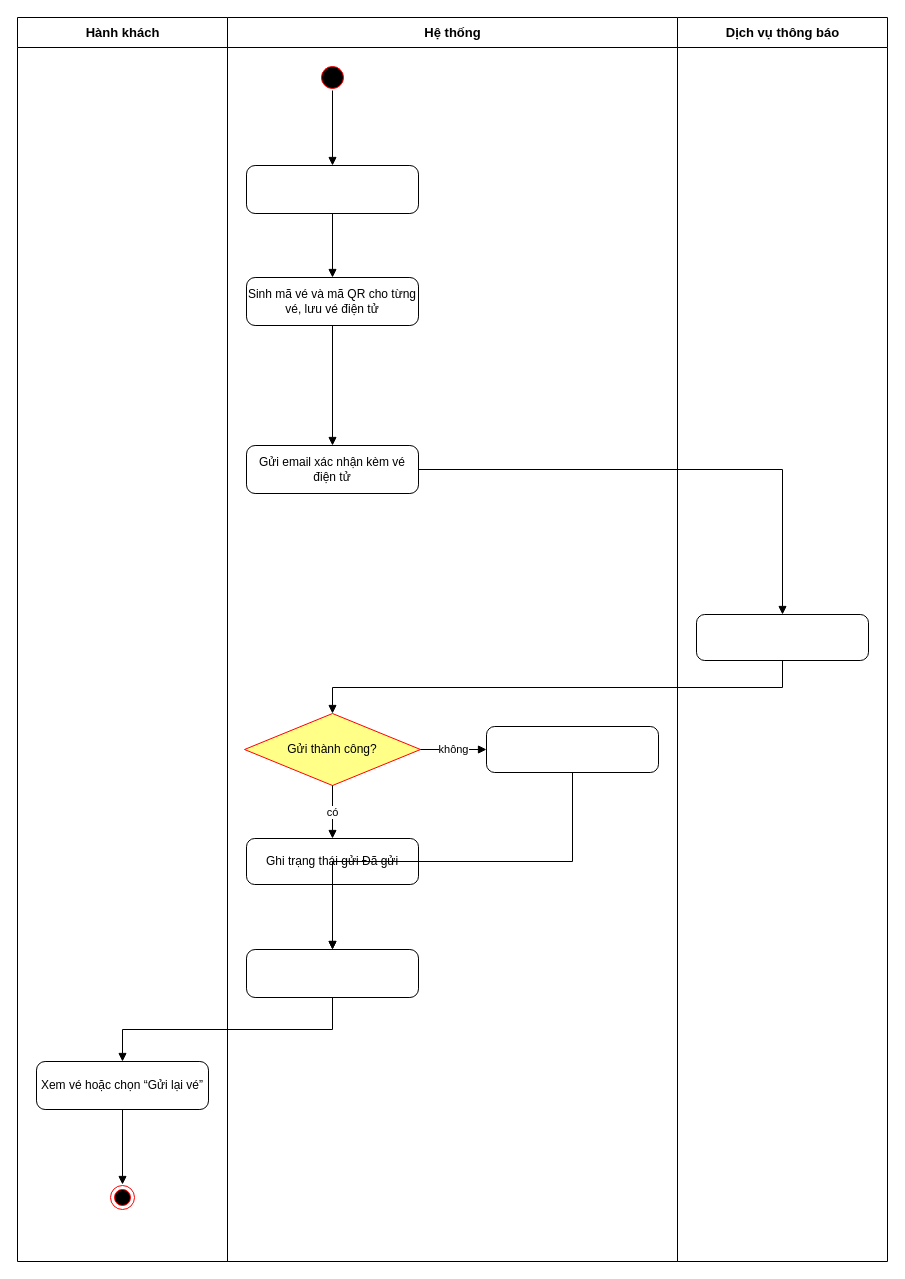
Image size: 905x1279. Some labels were removed from this diagram. The shapes that lost their labels are listed below. From the top down, each one's centre as x and y in pixels, then its label:
At pixel 332 189: "Lấy danh sách vé của đơn đặt vé, mỗi ghế một vé".
At pixel 782 637: "Gửi email đến hành khách".
At pixel 572 749: "Đưa vào hàng đợi gửi lại".
At pixel 332 973: "Hiển thị đặt vé thành công, vé trong “Vé của tôi”".
